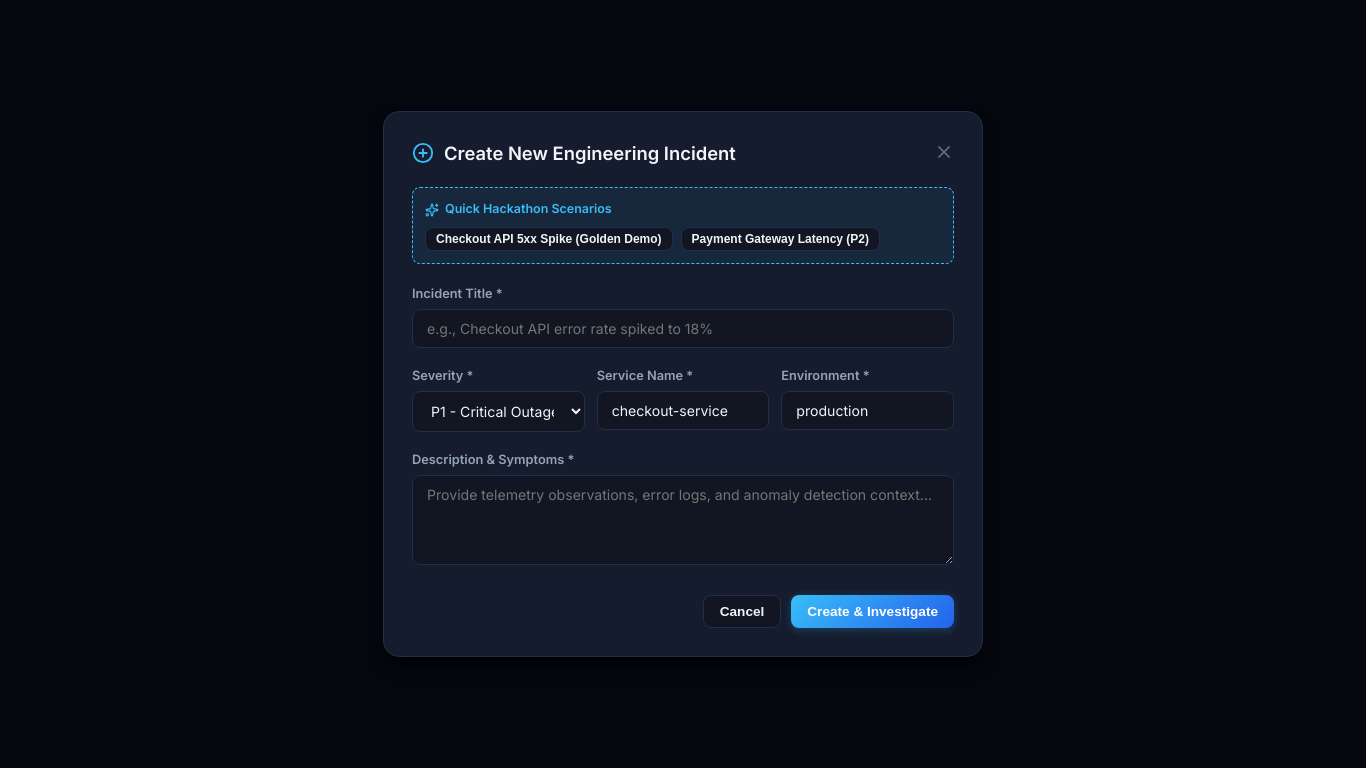
Test case: CreateIncidentModal Component › preloads golden hackathon checkout scenario on button click
The width and height of the screenshot is (1366, 768).
Click the button "Checkout API 5xx Spike (Golden Demo)". click: click(549, 239)
box: [425,227,673,251]
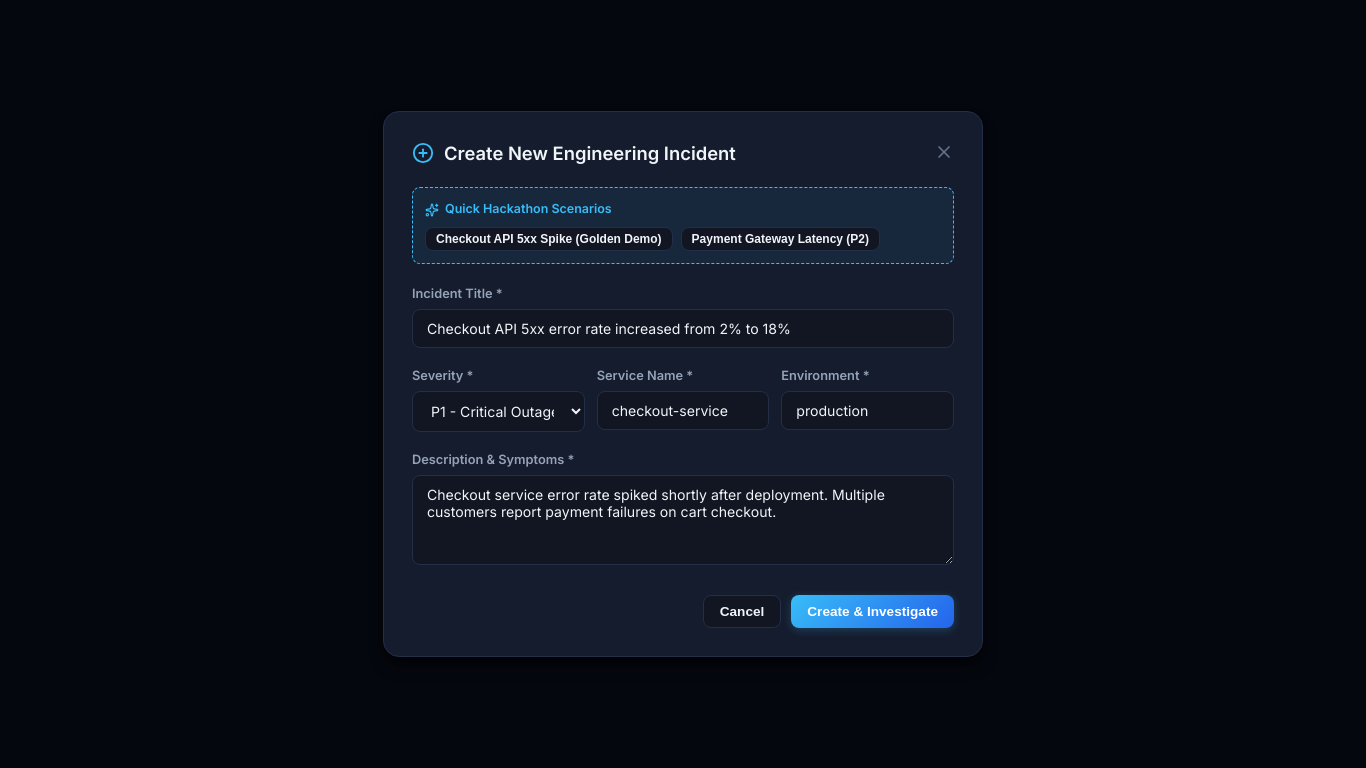
Result: the field showing "Checkout API 5xx error rate increased" below "Incident Title *" is shown at [412,309,954,348]
